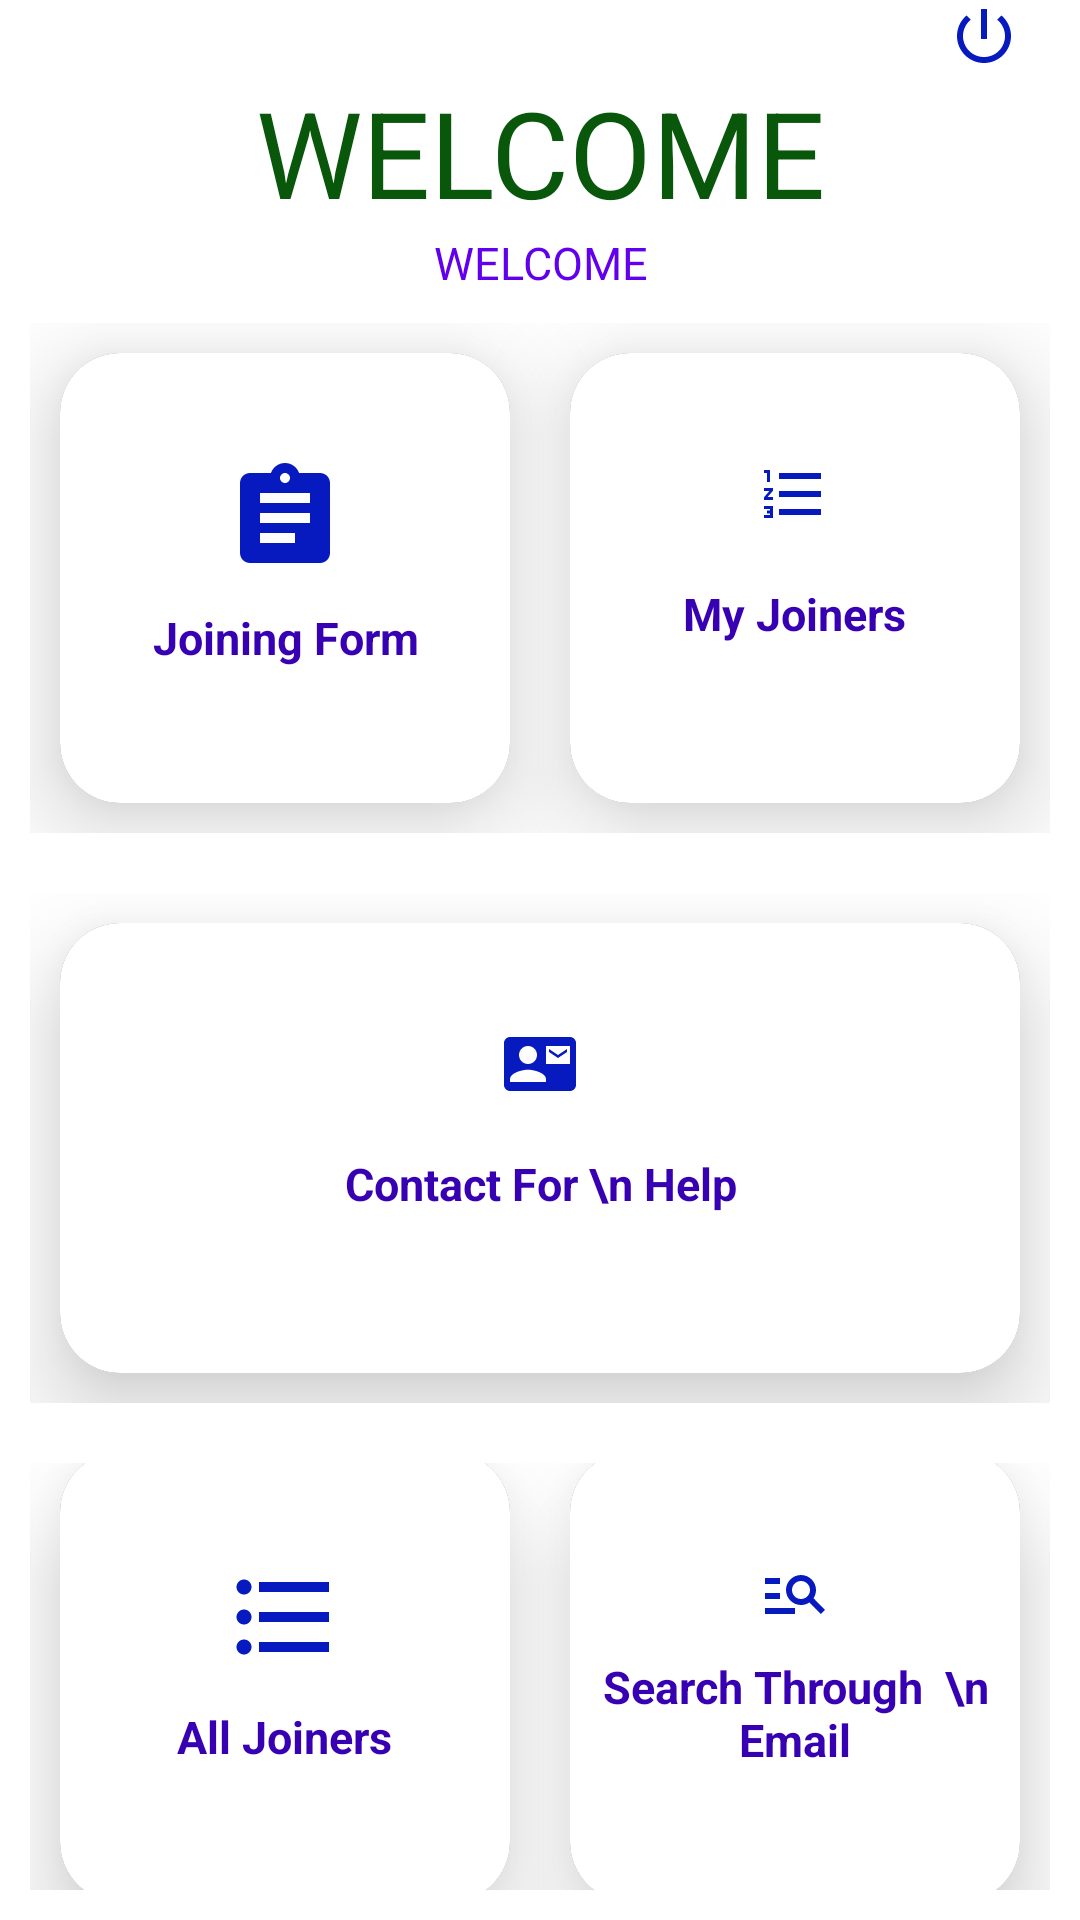

Locate icon controls on the screen. Image size 1080px×1920px, boxes as (x1, y1, x2, y2).
power settings: (957, 9, 1011, 63)
